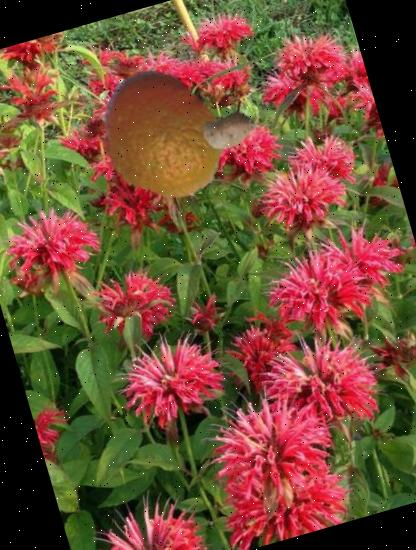Mandarine: (78, 52, 244, 218)
Potato: (196, 96, 264, 164)
